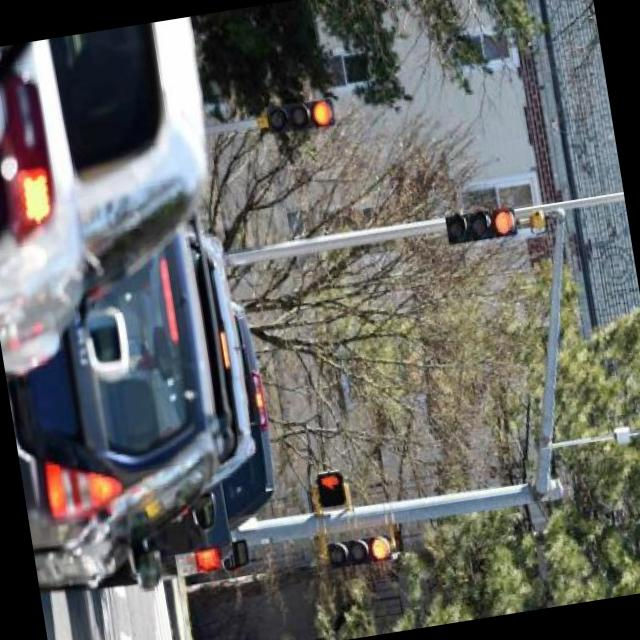red-lights: (306, 92, 341, 132), (364, 534, 393, 568), (490, 207, 514, 236)
